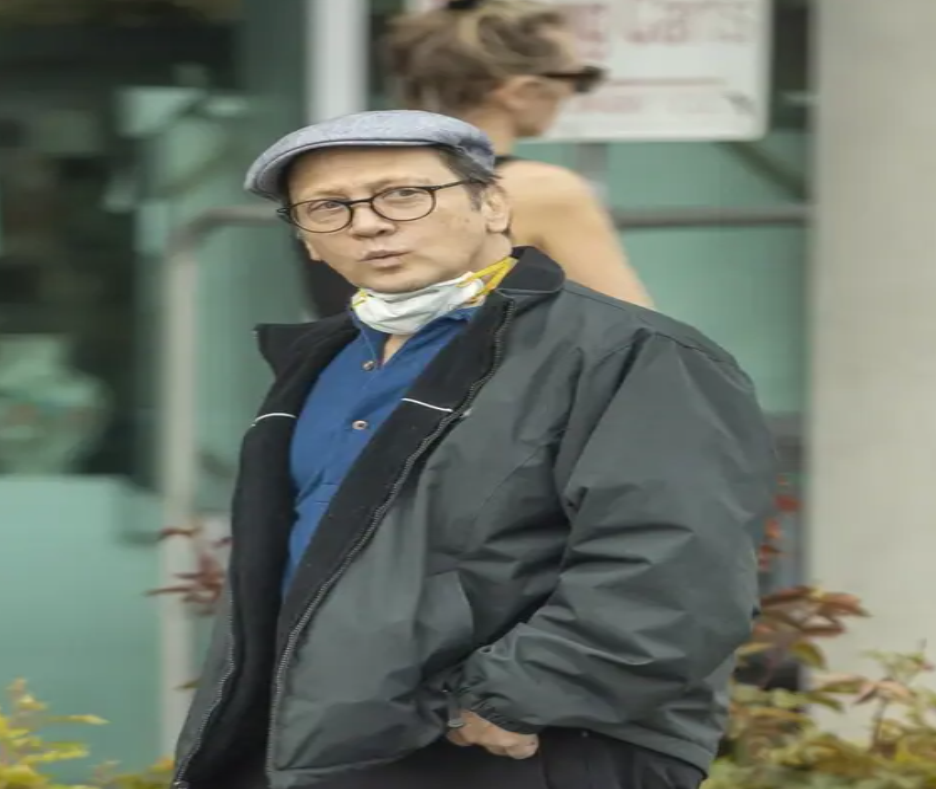mask_weared_incorrect: (241, 104, 541, 339)
